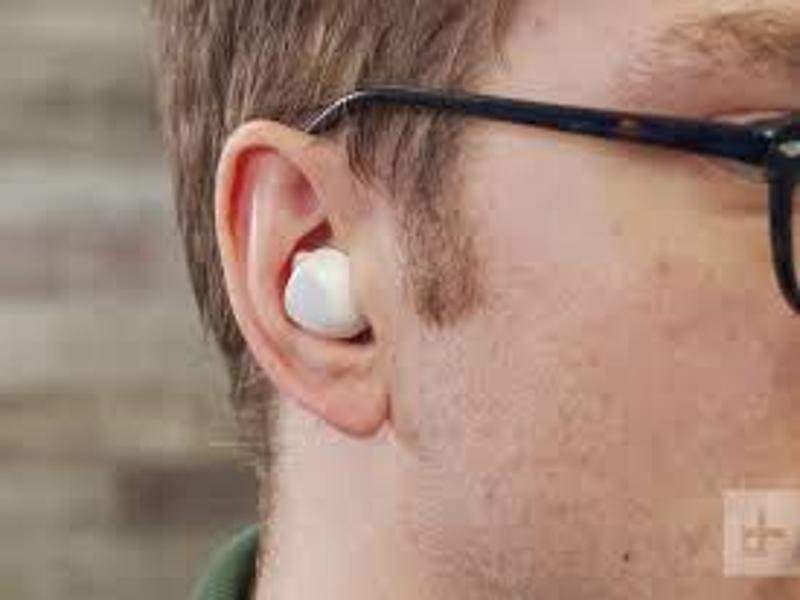headphone: (278, 245, 376, 342)
